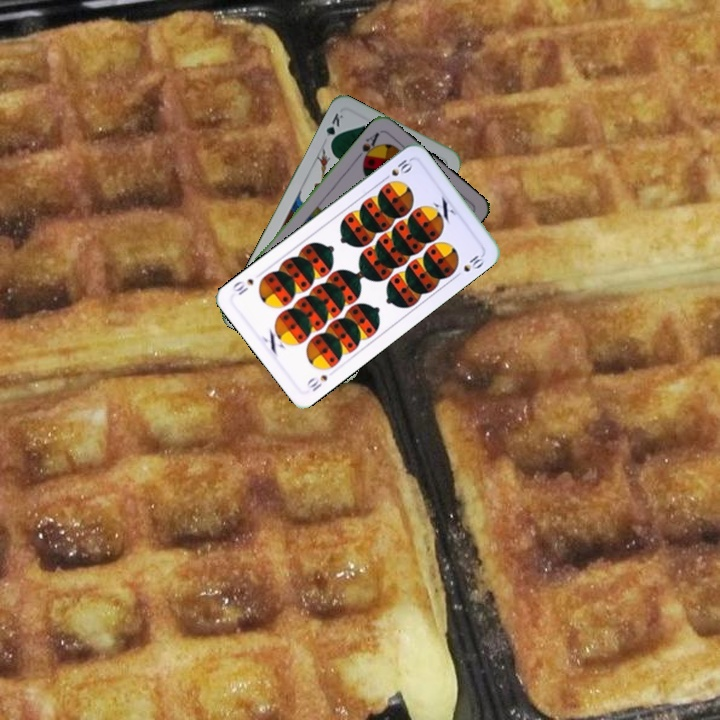GK: (322, 109, 346, 148)
S10: (378, 155, 415, 184), (302, 371, 330, 394)
SA: (352, 128, 382, 166)
